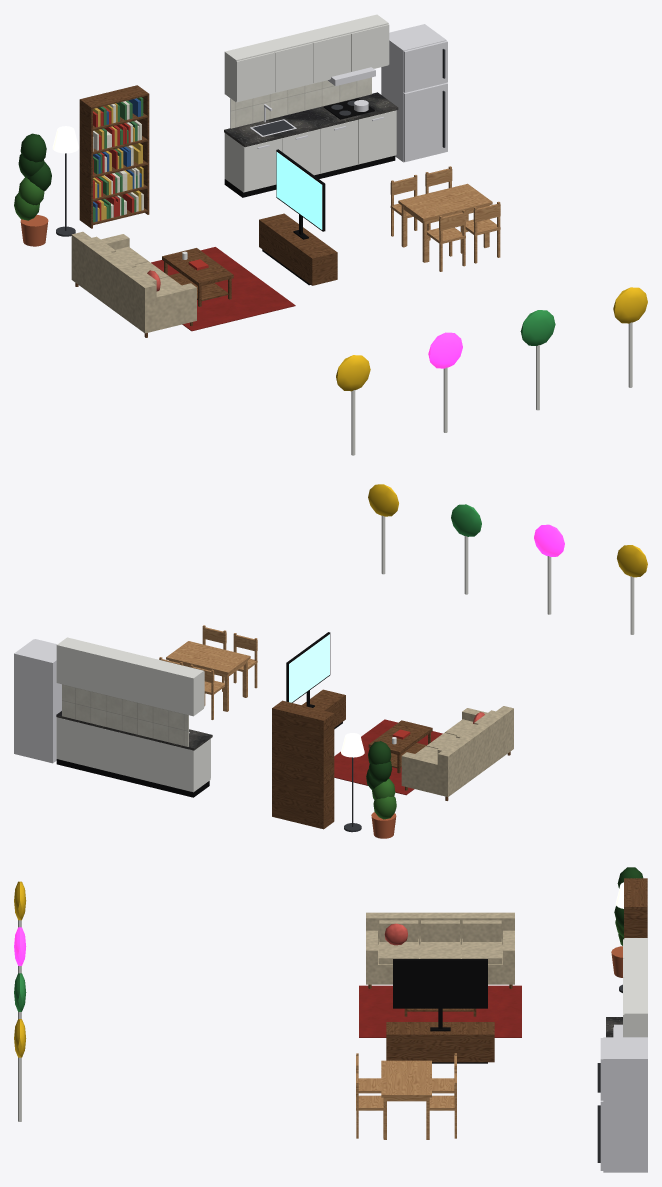
The model's file is i_gingerbread_house.gltf.
3 views of the same model, one above another, from view 1: azimuth 30°, elevation 25°; view 2: azimuth 150°, elevation 25°; view 3: azimuth 270°, elevation 25° (orthographic). The views are drawn at different scales.
Parts seen in each view (by area): view 1: I_gingerbread_house; view 2: I_gingerbread_house; view 3: I_gingerbread_house.
Part boxes in pixels (x1=…): I_gingerbread_house: x1=14, y1=14, x2=647, y2=455; I_gingerbread_house: x1=14, y1=484, x2=647, y2=838; I_gingerbread_house: x1=14, y1=867, x2=647, y2=1172.
Bounding box in the file's own units: 7.24 × 2.2 × 9.35.
26 materials, 8 textured.
